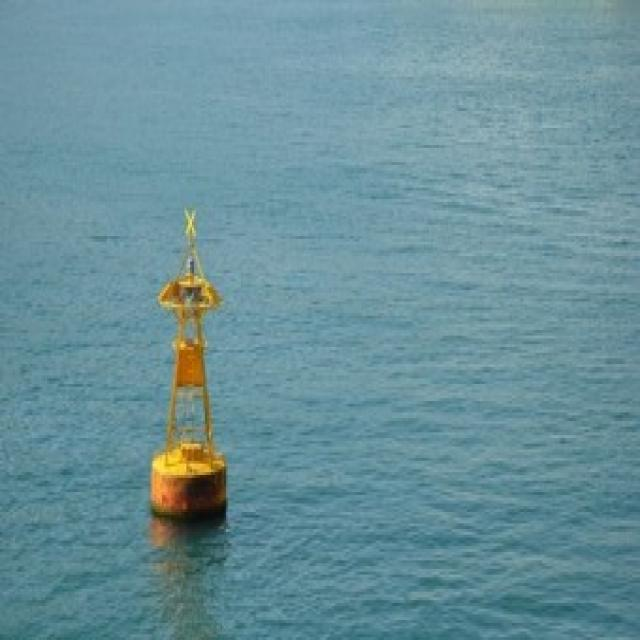2.5 sepcial mark: (147, 192, 241, 555)
